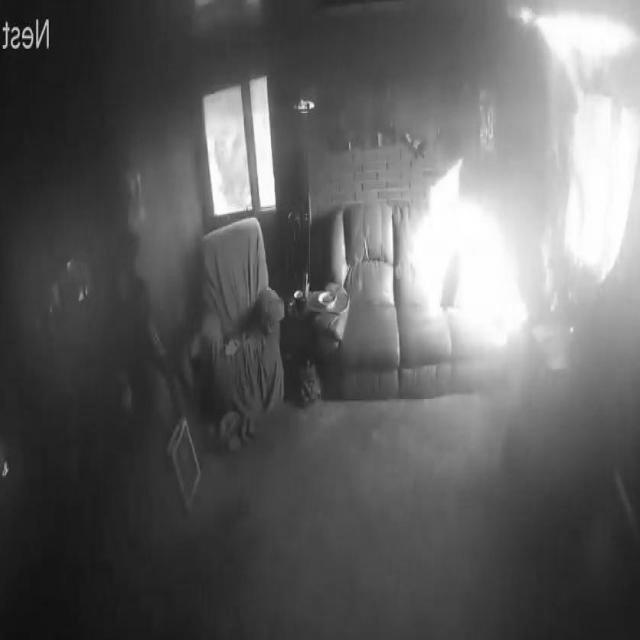fire: (279, 0, 467, 158)
smoke: (517, 8, 640, 83)
